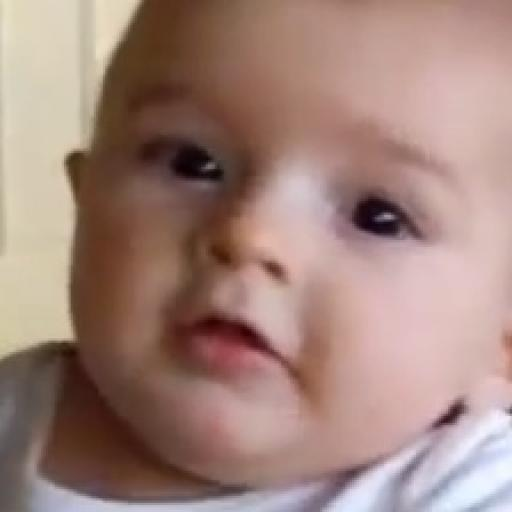Autism: (109, 8, 512, 512)
